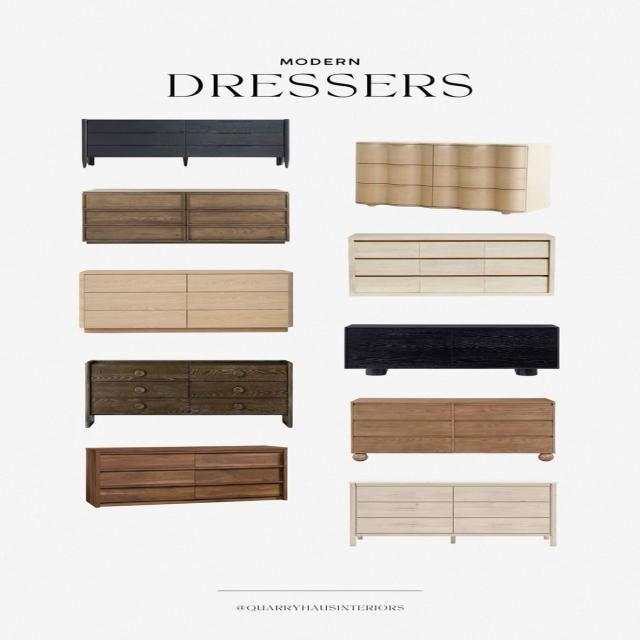obstacle: (354, 140, 550, 214), (85, 360, 293, 428), (346, 482, 556, 547), (350, 397, 554, 462), (78, 269, 293, 330), (347, 232, 555, 295), (84, 446, 287, 508), (80, 188, 290, 244), (343, 323, 560, 376), (80, 118, 290, 168)
